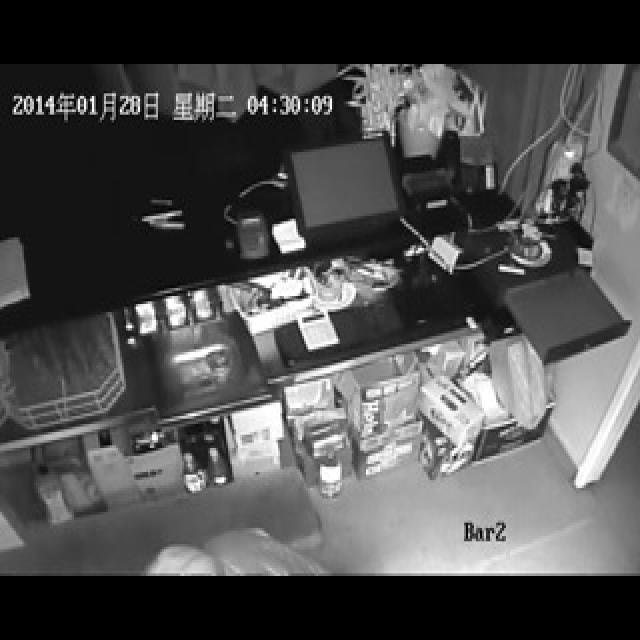thief: (147, 504, 302, 581)
